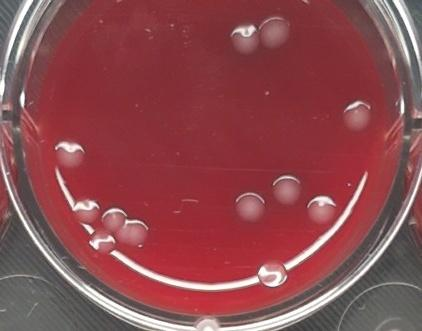pddamselae: (102, 204, 149, 248), (229, 190, 267, 227), (254, 255, 291, 291), (259, 14, 293, 50), (305, 192, 338, 229), (268, 171, 302, 206), (340, 99, 372, 136), (228, 19, 260, 55), (53, 138, 87, 169), (69, 196, 100, 223), (89, 229, 115, 256)
